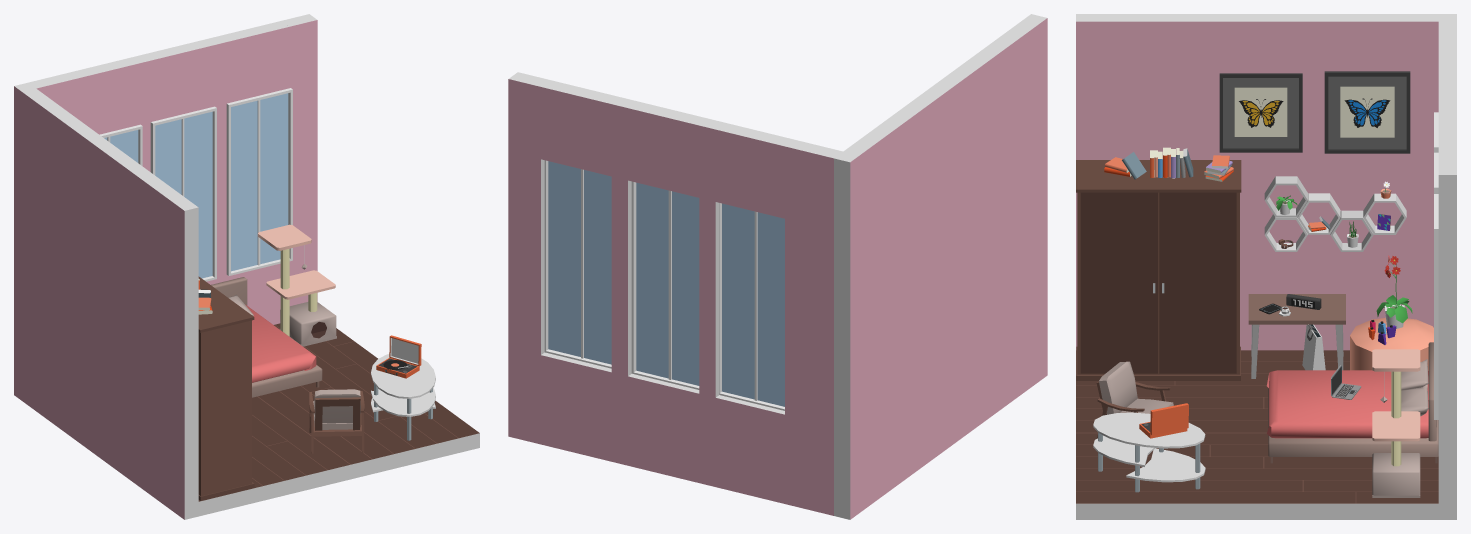
Rendered from room_27.glb.
3 views of the same model, side by side, from view 1: azimuth 30°, elevation 25°; view 2: azimuth 150°, elevation 25°; view 3: azimuth 270°, elevation 25° (orthographic). The views are drawn at different scales.
Visible parts, largest first — view 1: Walls_158.006, window_001.005, Walls_158.009, floor_004.001, closet_026.001, Walls_158.005, Walls_009.011, prop_014.001, bed_008.001, coffee_table_024.001, lounge_chair_004.001, Walls_158.008 (+3 smaller); view 2: Walls_158.006, window_001.005, Walls_158.008, Walls_158.009, Walls_158.007, Walls_158.005, Walls_158.015, Walls_158.016; view 3: Walls_158.006, closet_026.001, floor_004.001, bed_008.001, Walls_009.011, picture_052.001, Walls_158.005, picture_014.001, coffee_table_024.001, prop_014.001, shelf_059.002, kitchen_table_020.001 (+13 smaller).
Boxes of the visible parts, <box> form: Walls_158.006: <box>14,82,198,519</box>; window_001.005: <box>99,88,292,281</box>; Walls_158.009: <box>71,21,289,134</box>; floor_004.001: <box>198,323,479,501</box>; closet_026.001: <box>198,276,254,500</box>; Walls_158.005: <box>281,14,317,305</box>; Walls_009.011: <box>198,325,479,516</box>; prop_014.001: <box>257,224,336,346</box>; bed_008.001: <box>211,277,322,397</box>; coffee_table_024.001: <box>371,354,435,440</box>; lounge_chair_004.001: <box>309,389,364,453</box>; Walls_158.008: <box>206,263,280,324</box>; Walls_158.006: <box>834,14,1047,519</box>; window_001.005: <box>544,160,784,410</box>; Walls_158.008: <box>541,352,784,503</box>; Walls_158.009: <box>541,80,793,218</box>; Walls_158.007: <box>785,139,842,515</box>; Walls_158.005: <box>508,72,549,444</box>; Walls_158.015: <box>699,198,719,397</box>; Walls_158.016: <box>611,176,631,376</box>; Walls_158.006: <box>1076,14,1456,350</box>; closet_026.001: <box>1076,160,1241,380</box>; floor_004.001: <box>1076,350,1438,503</box>; bed_008.001: <box>1266,342,1438,463</box>; Walls_009.011: <box>1076,361,1438,519</box>; picture_052.001: <box>1324,71,1410,153</box>; Walls_158.005: <box>1438,159,1456,519</box>; picture_014.001: <box>1219,73,1302,152</box>; coffee_table_024.001: <box>1093,412,1205,492</box>; prop_014.001: <box>1372,349,1420,497</box>; shelf_059.002: <box>1264,176,1406,251</box>; kitchen_table_020.001: <box>1248,294,1345,378</box>.
Bounding box in the file's own units: 4.2 × 4.2 × 4.2.
1 material, 1 textured.
